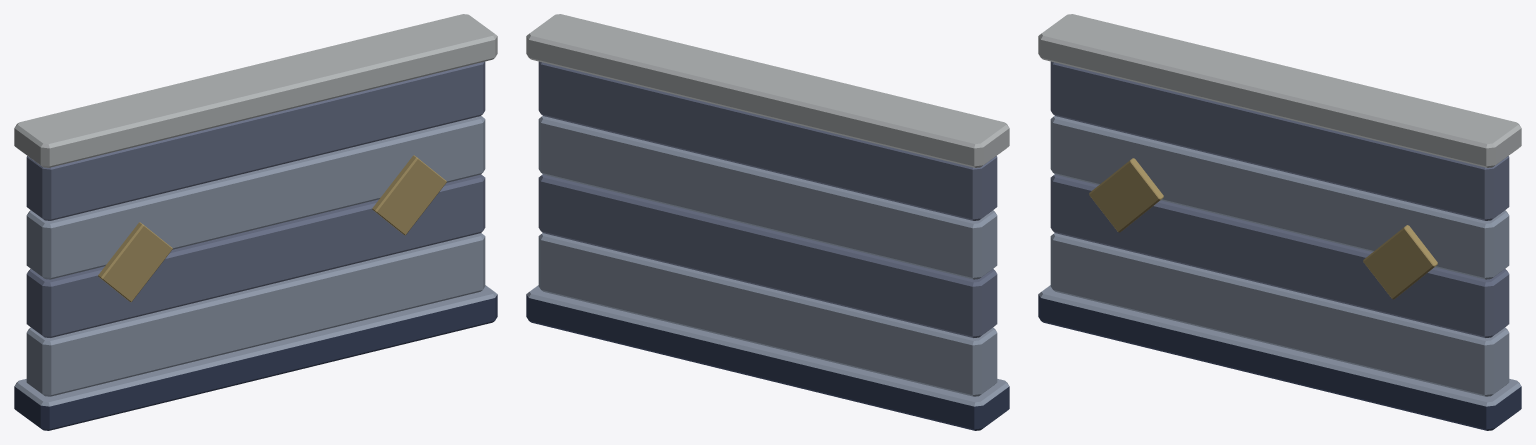
Rendered from platform-edge.glb.
The picture shows the model from 3 angles, left to right: view 1: azimuth 30°, elevation 25°; view 2: azimuth 150°, elevation 25°; view 3: azimuth 330°, elevation 25°; orthographic projection.
Parts seen in each view (by area): view 1: platform-edge__body; view 2: platform-edge__body; view 3: platform-edge__body.
Part boxes in pixels (x1,y1,x2,y2): platform-edge__body: (14, 14, 497, 430); platform-edge__body: (526, 14, 1009, 430); platform-edge__body: (1038, 14, 1521, 430).
Bounding box in the file's own units: 2 × 1.2 × 0.2675.
